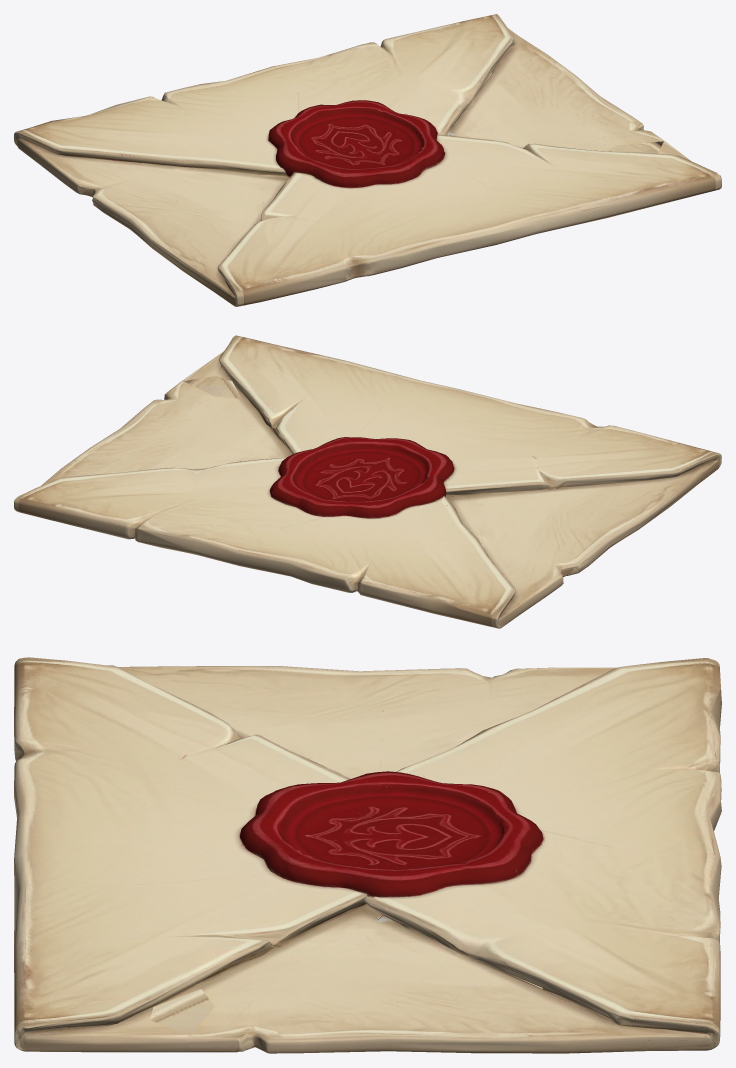
File: envelope_wax_seal.glb
3 views of the same model, one above another, from view 1: azimuth 30°, elevation 25°; view 2: azimuth 150°, elevation 25°; view 3: azimuth 270°, elevation 25° (orthographic). The views are drawn at different scales.
Size of the model in its own units: 0.9512 by 0.0488 by 0.7583.
Materials: 1 (1 with a texture image).
